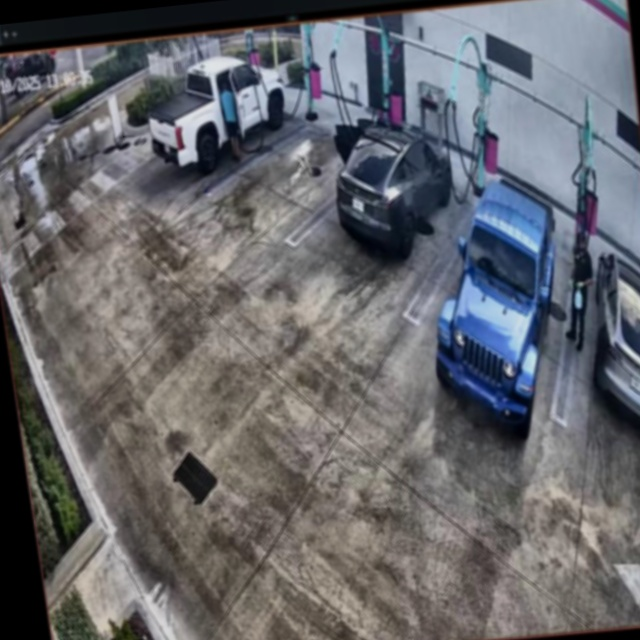Car: (416, 169, 575, 437), (142, 51, 293, 177), (332, 109, 458, 255)
